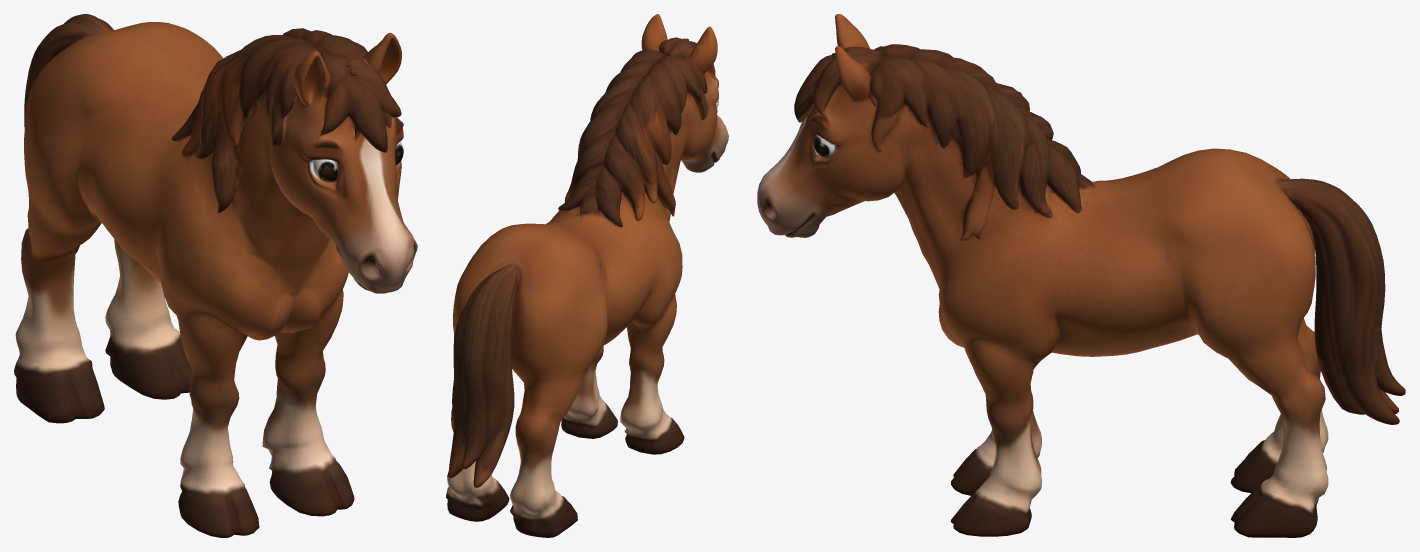
Rendered from horse.glb.
3 views of the same model, side by side, from view 1: azimuth 30°, elevation 25°; view 2: azimuth 150°, elevation 25°; view 3: azimuth 270°, elevation 25° (orthographic). The views are drawn at different scales.
Parts seen in each view (by area): view 1: horse; view 2: horse; view 3: horse.
Part boxes in pixels (bbox=[...]): horse: bbox=[14, 14, 417, 537]; horse: bbox=[446, 14, 728, 537]; horse: bbox=[757, 14, 1405, 537].
Bounding box in the file's own units: 0.3052 × 0.8101 × 0.9995.
1 material, 1 textured.
